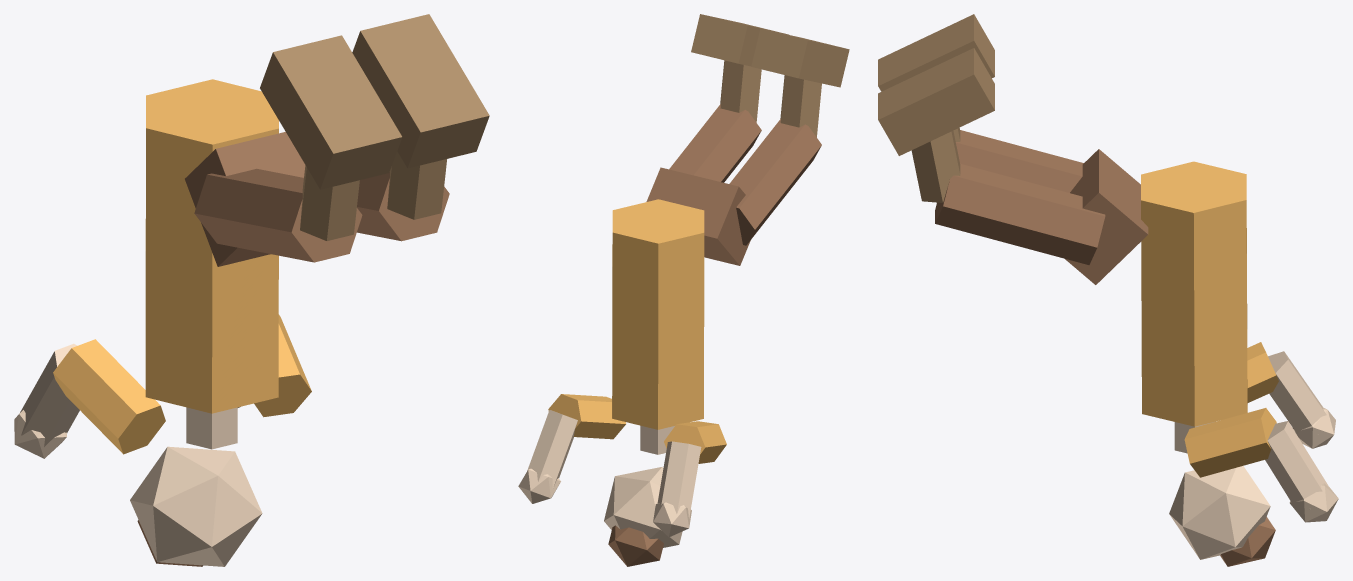
The model's file is pose_dodge_roll_24.glb.
3 renders of one model, left to right at view 1: azimuth 30°, elevation 25°; view 2: azimuth 150°, elevation 25°; view 3: azimuth 270°, elevation 25°, orthographic. The views are drawn at different scales.
Parts seen in each view (by area): view 1: pose; view 2: pose; view 3: pose.
Boxes of the visible parts, x1=… form: pose: x1=14, y1=14, x2=489, y2=566; pose: x1=518, y1=14, x2=849, y2=566; pose: x1=878, y1=14, x2=1338, y2=566.
Size of the model in its own units: 0.4876 by 1.27 by 1.02.
